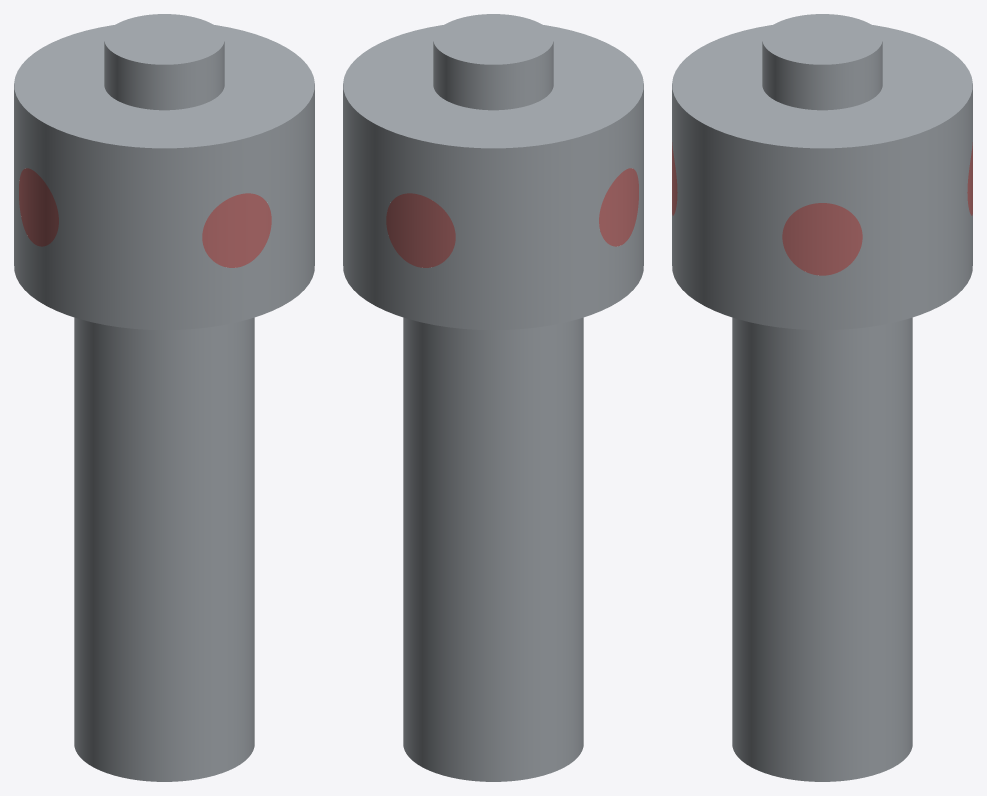
Rendered from step_07.glb.
3 renders of one model, left to right at view 1: azimuth 30°, elevation 25°; view 2: azimuth 150°, elevation 25°; view 3: azimuth 270°, elevation 25°, orthographic.
Visible parts, largest first — view 1: part__screw spindle, removed__screw spindle; view 2: part__screw spindle, removed__screw spindle; view 3: part__screw spindle, removed__screw spindle.
Part boxes in pixels (left/top/right/bottom): part__screw spindle: left=14, top=14, right=314, bottom=781; removed__screw spindle: left=19, top=168, right=271, bottom=267; part__screw spindle: left=343, top=14, right=643, bottom=781; removed__screw spindle: left=386, top=168, right=638, bottom=267; part__screw spindle: left=672, top=14, right=972, bottom=781; removed__screw spindle: left=672, top=142, right=972, bottom=275.
Size of the model in its own units: 60 by 155 by 60.
